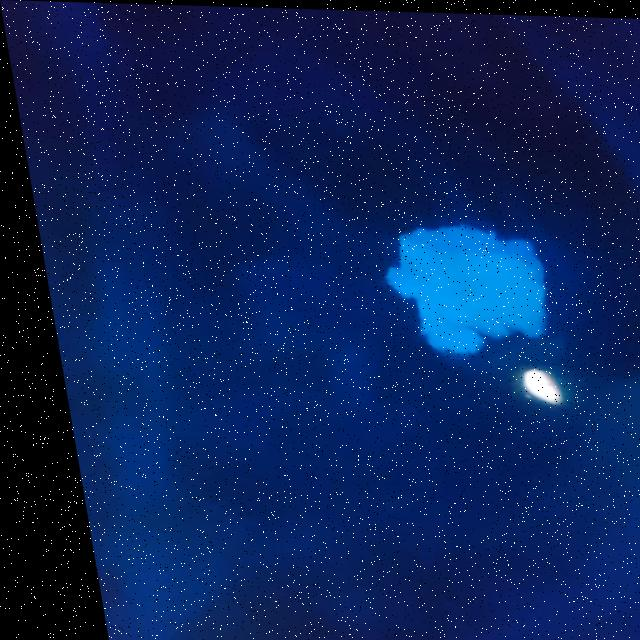litter: (350, 215, 555, 361)
